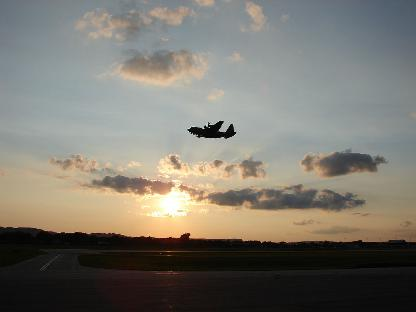Be200: (187, 120, 237, 138)
